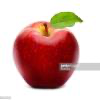Apple leaf: (49, 10, 85, 30)
